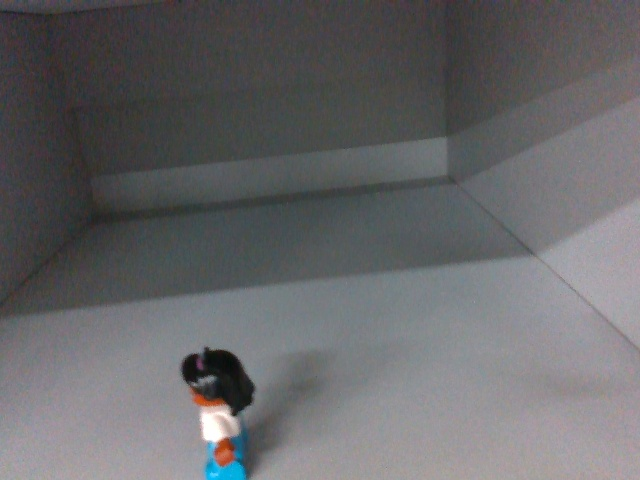people: (176, 342, 256, 480)
